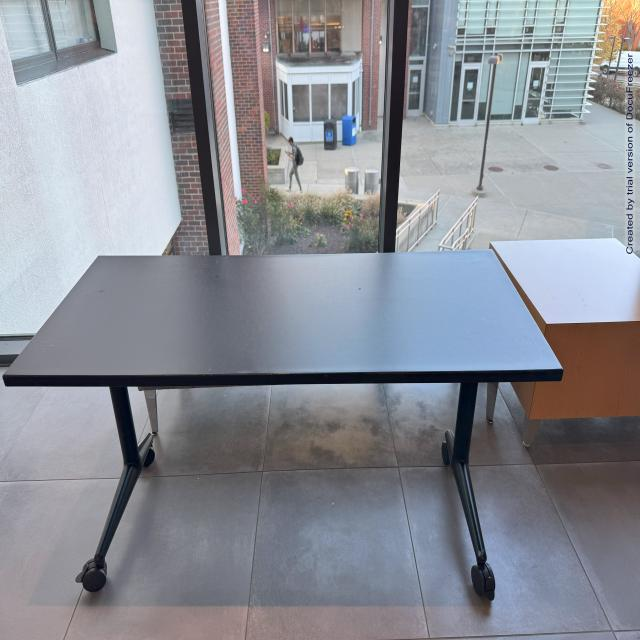Table: (6, 239, 564, 640)
